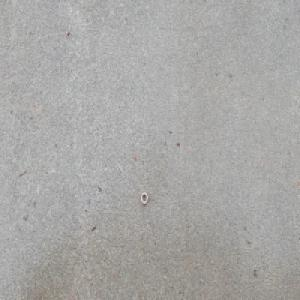Nut: (139, 191, 148, 206)
